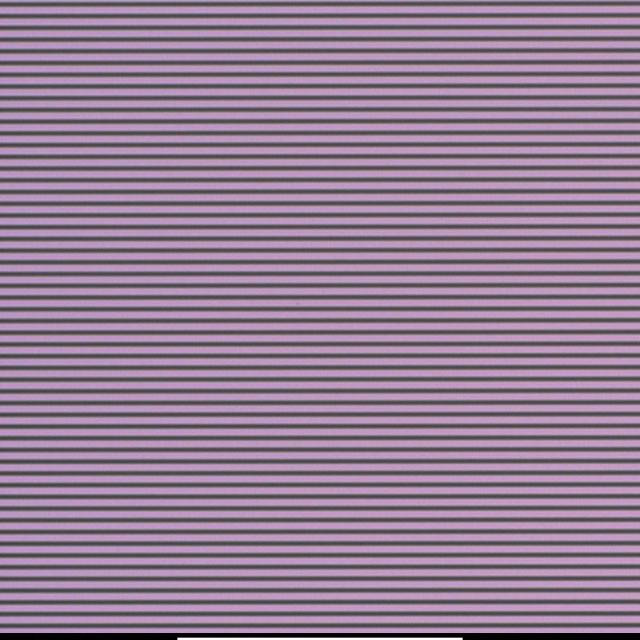nonvisual: (293, 300, 302, 309)
